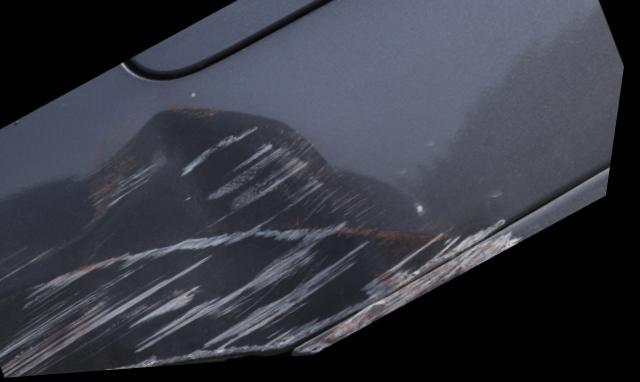dent: (96, 118, 349, 329)
scratch: (0, 188, 515, 379), (305, 241, 539, 359)
